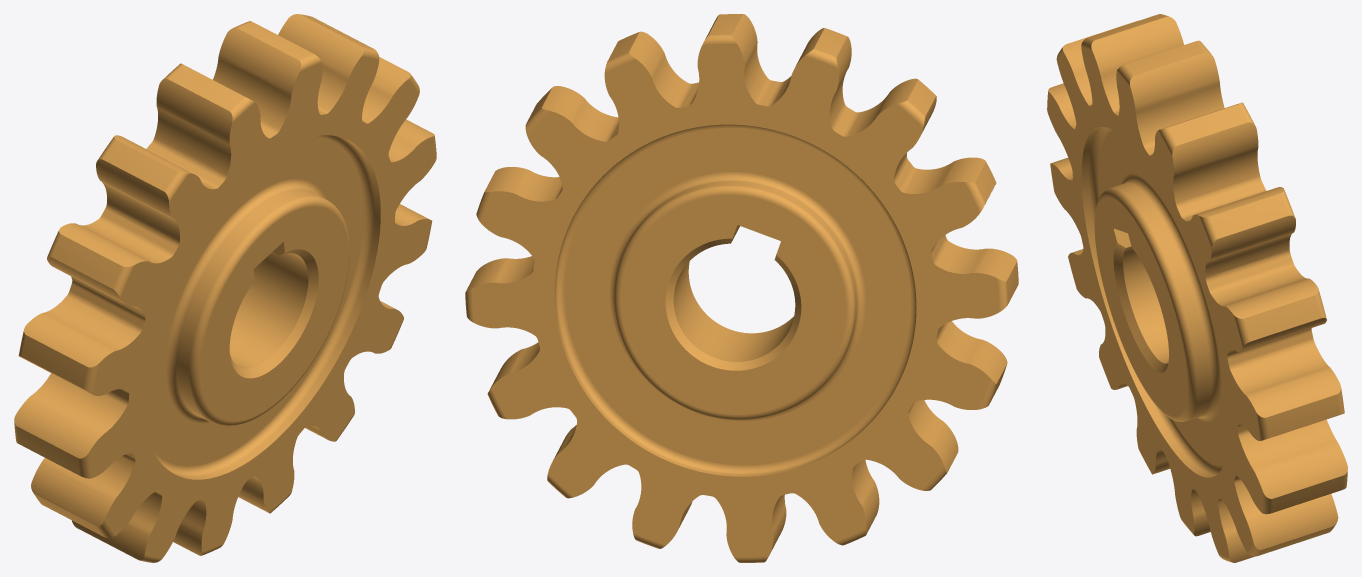
Rendered from Cog .fbx.
3 views of the same model, side by side, from view 1: azimuth 30°, elevation 25°; view 2: azimuth 150°, elevation 25°; view 3: azimuth 270°, elevation 25° (orthographic). The views are drawn at different scales.
Visible parts, largest first — view 1: Gear_Spur_16T_Keyway; view 2: Gear_Spur_16T_Keyway; view 3: Gear_Spur_16T_Keyway.
Boxes of the visible parts, bbox=[...] form: Gear_Spur_16T_Keyway: bbox=[14, 14, 436, 562]; Gear_Spur_16T_Keyway: bbox=[465, 14, 1018, 562]; Gear_Spur_16T_Keyway: bbox=[1047, 14, 1347, 562].
Bounding box in the file's own units: 239 × 247 × 133.
